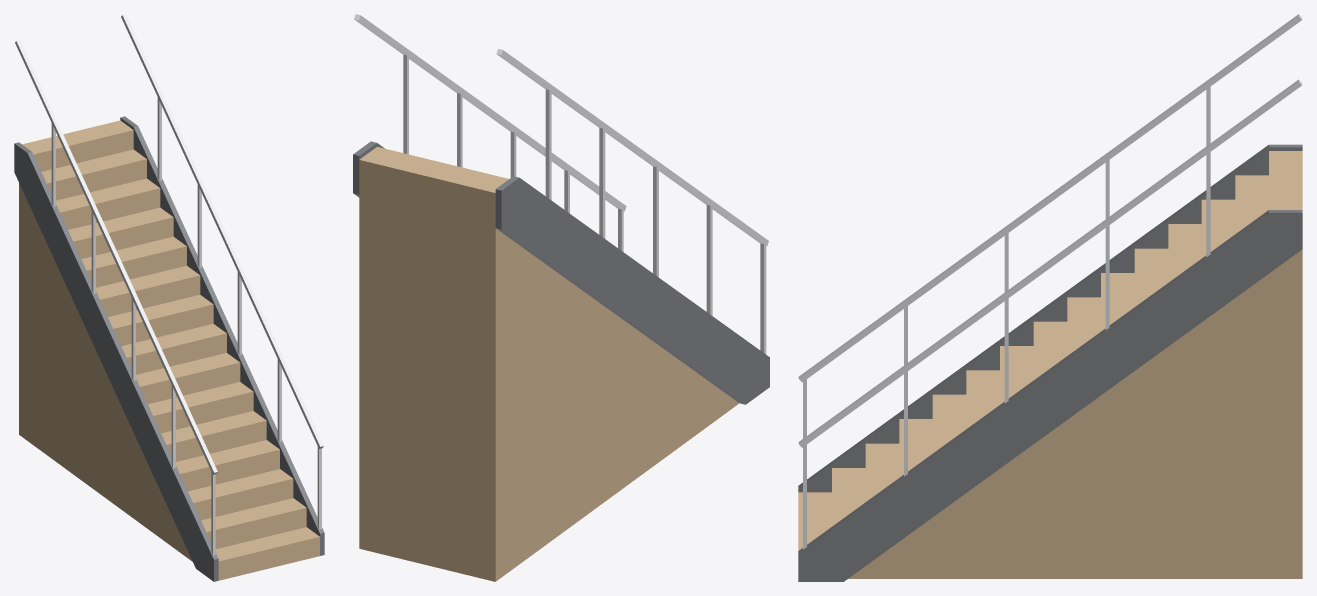
File: stair_flight.glb
The picture shows the model from 3 angles, left to right: view 1: azimuth 30°, elevation 25°; view 2: azimuth 150°, elevation 25°; view 3: azimuth 270°, elevation 25°; orthographic projection. The views are drawn at different scales.
Parts seen in each view (by area): view 1: stair_flight; view 2: stair_flight; view 3: stair_flight.
Part boxes in pixels (x1,y1,x2,y2): stair_flight: (14,14,324,581); stair_flight: (353,14,769,581); stair_flight: (798,14,1302,581).
Size of the model in its own units: 1.2 by 4.1 by 3.75.
